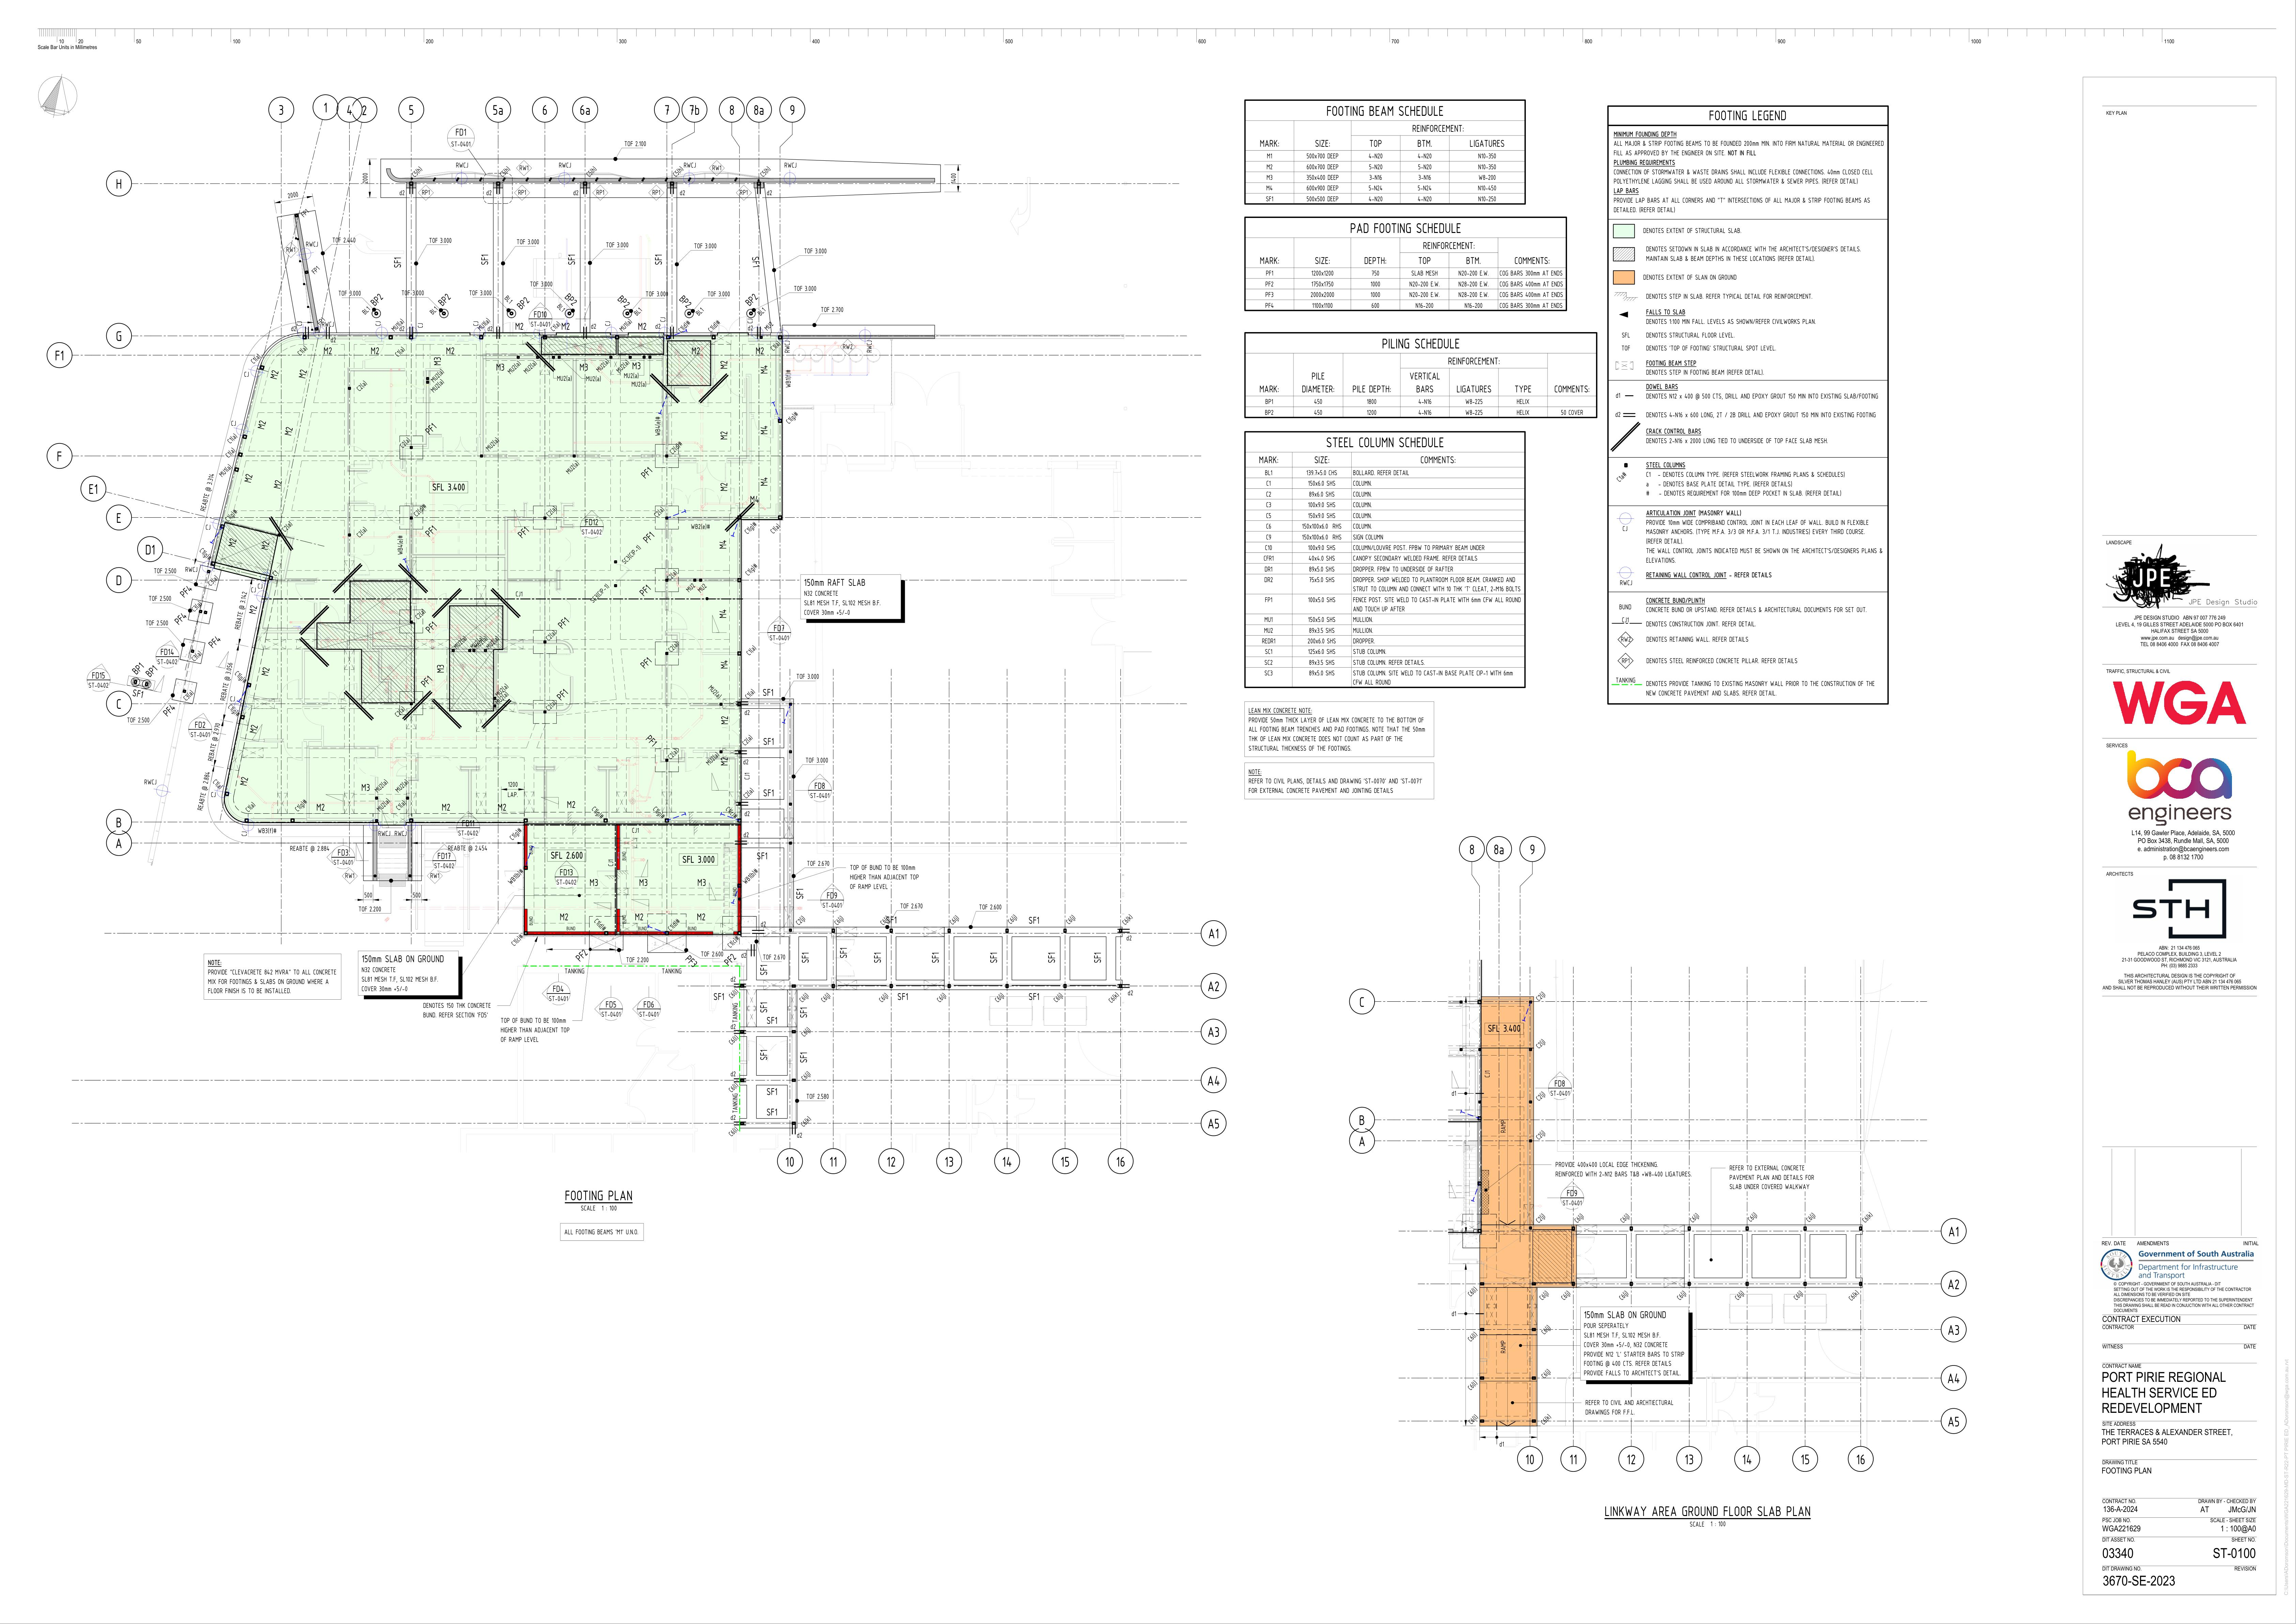BP1: (146, 664, 160, 678), (132, 661, 144, 673)
BP2: (614, 294, 631, 309), (679, 290, 693, 309), (745, 290, 759, 306), (517, 295, 533, 309), (564, 292, 578, 306), (369, 292, 385, 304), (440, 295, 452, 306)
M2: (246, 719, 264, 736), (272, 478, 290, 496), (258, 664, 274, 680), (691, 343, 707, 359), (717, 427, 731, 445), (717, 480, 733, 494), (716, 715, 733, 728), (297, 366, 311, 380), (315, 800, 331, 812), (267, 369, 283, 381), (443, 344, 459, 357), (696, 912, 710, 924), (438, 800, 452, 812), (229, 534, 241, 548), (258, 540, 272, 552), (280, 427, 294, 439), (719, 754, 731, 768), (754, 346, 770, 357), (367, 343, 380, 355), (564, 800, 578, 810), (559, 909, 570, 921), (255, 420, 267, 431), (243, 473, 253, 485), (719, 359, 731, 369), (322, 348, 336, 357), (496, 801, 506, 812), (239, 775, 250, 786), (633, 912, 645, 921)
M3: (629, 359, 647, 373), (432, 663, 450, 675), (577, 359, 591, 373), (490, 360, 506, 373), (431, 357, 443, 366)
M4: (754, 362, 772, 378), (756, 471, 772, 489), (714, 657, 730, 671), (714, 540, 733, 550), (758, 422, 770, 438), (716, 605, 726, 622), (749, 494, 761, 504)
PF1: (642, 731, 661, 747), (635, 654, 654, 670), (515, 526, 534, 540), (424, 619, 440, 634), (635, 582, 652, 596), (640, 466, 658, 480), (554, 687, 571, 701), (420, 524, 440, 536), (425, 418, 440, 434), (642, 529, 656, 543), (418, 675, 434, 687), (557, 617, 573, 627)
PF2: (575, 947, 589, 963), (723, 953, 737, 968)
PF3: (684, 953, 700, 968)
PF4: (174, 585, 193, 598), (172, 612, 186, 626), (207, 636, 222, 649), (162, 705, 176, 714)
SF1: (561, 248, 580, 269), (390, 248, 404, 274), (475, 248, 492, 267), (749, 250, 763, 272), (759, 1012, 782, 1026), (881, 912, 904, 926), (650, 250, 668, 267), (1088, 949, 1106, 967), (1044, 949, 1060, 968), (751, 849, 772, 863), (130, 691, 153, 703), (1028, 988, 1044, 1005), (1025, 909, 1041, 926), (758, 998, 772, 1016), (837, 946, 851, 963), (930, 949, 944, 967), (988, 949, 1002, 967), (800, 1049, 814, 1065), (798, 1005, 812, 1021), (870, 951, 884, 967), (710, 991, 728, 1004), (759, 1048, 772, 1065), (897, 991, 912, 1004), (793, 884, 805, 900), (765, 1107, 781, 1120), (763, 685, 777, 698), (767, 1084, 781, 1097), (802, 951, 812, 967), (763, 735, 779, 745), (758, 963, 770, 975), (763, 787, 775, 798)
